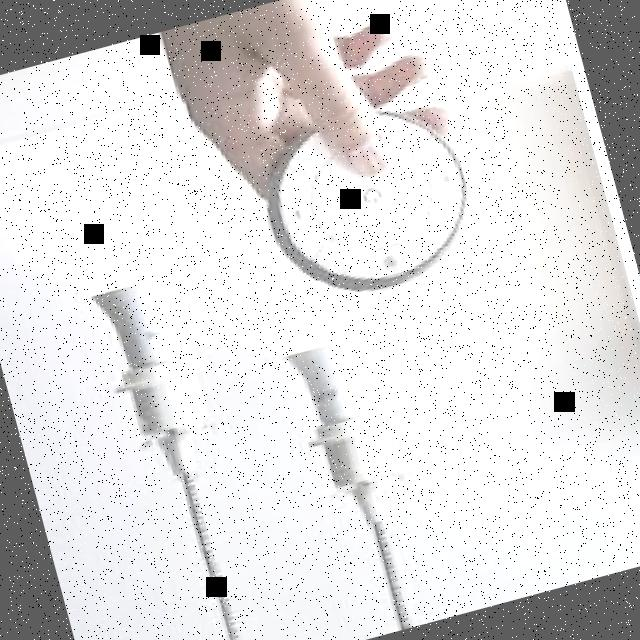light_bulb: (44, 178, 252, 492), (240, 256, 440, 549)
